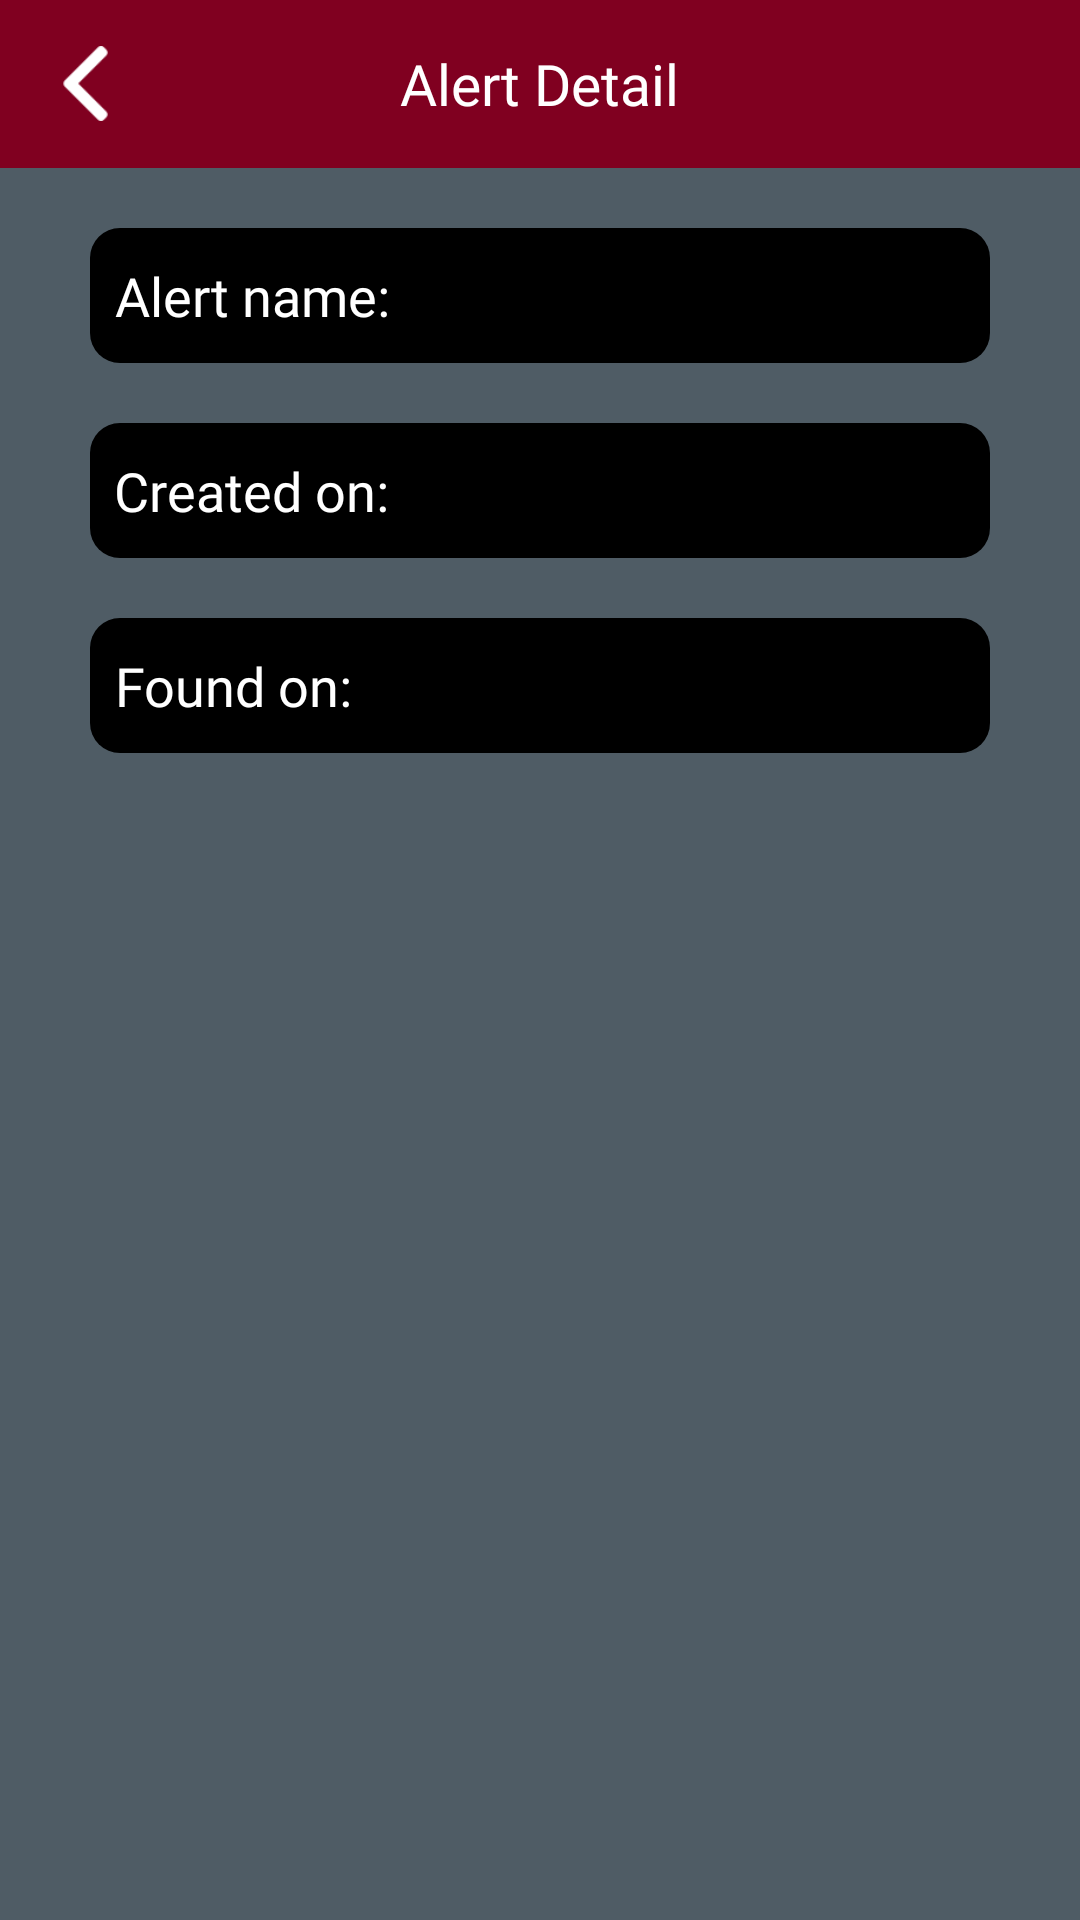

Named icons in this screenshot (1080w x 1920h) and their bounding boxes, (x1, y1, x2, y2):
left arrow: (63, 46, 108, 121)
